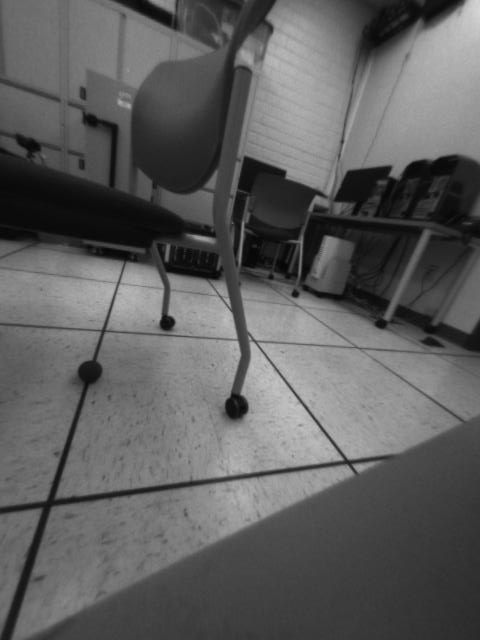dogtoy: (71, 353, 108, 390)
